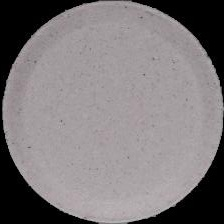51672-4042: (0, 0, 224, 224)
